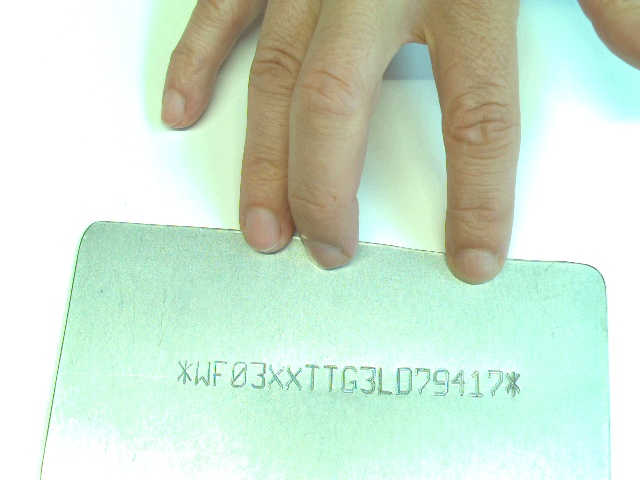0: (231, 360, 249, 390)
1: (468, 371, 485, 398)
3: (358, 365, 377, 395), (249, 361, 267, 391)
4: (451, 369, 467, 398)
7: (486, 368, 504, 398), (414, 367, 432, 395)
9: (432, 368, 451, 397)
d: (394, 366, 414, 396)
f: (212, 360, 228, 388)
g: (341, 365, 358, 395)
l: (376, 367, 393, 397)
t: (303, 363, 321, 394), (323, 364, 339, 394)
w: (194, 360, 211, 388)
x: (284, 365, 303, 393), (267, 364, 285, 391)
